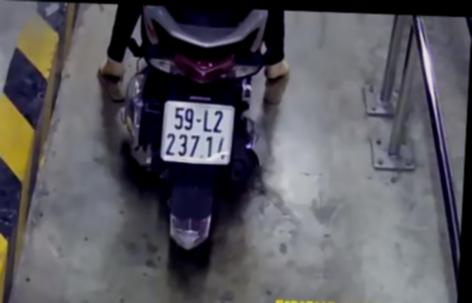License_Plate: (156, 98, 240, 168)
